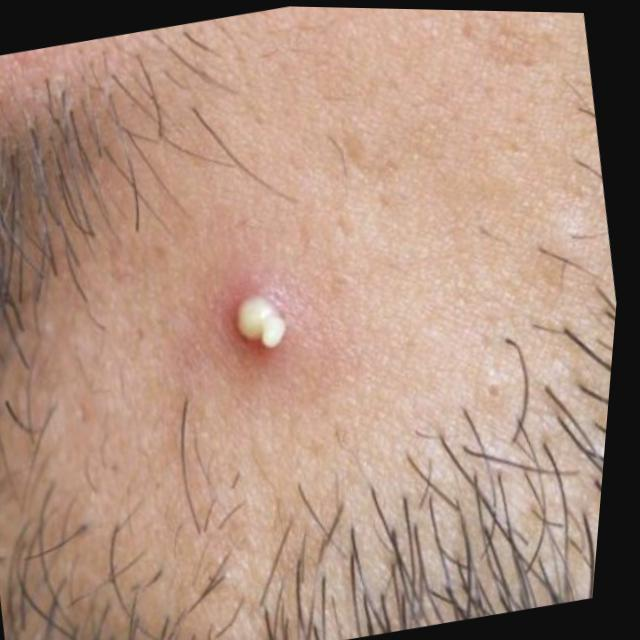pustule: (212, 259, 313, 369)
